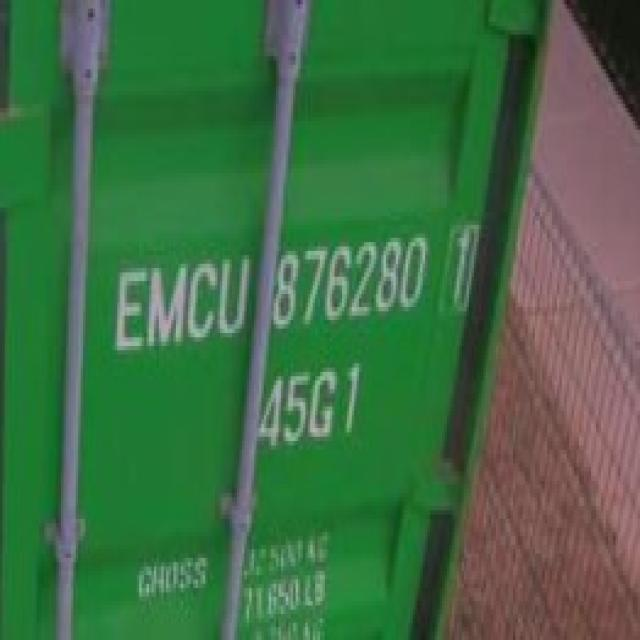dv: (449, 218, 482, 316)
owner: (106, 244, 254, 352)
serial: (268, 231, 430, 335)
size: (252, 361, 370, 455)
